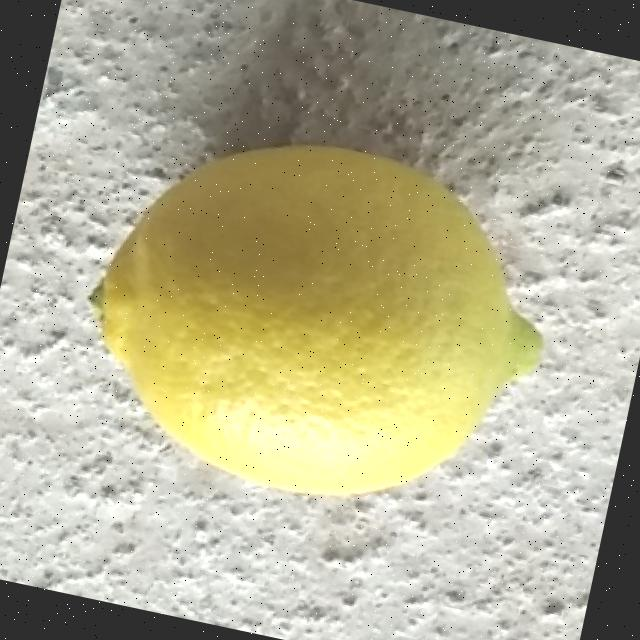Lemon: (59, 98, 578, 539)
